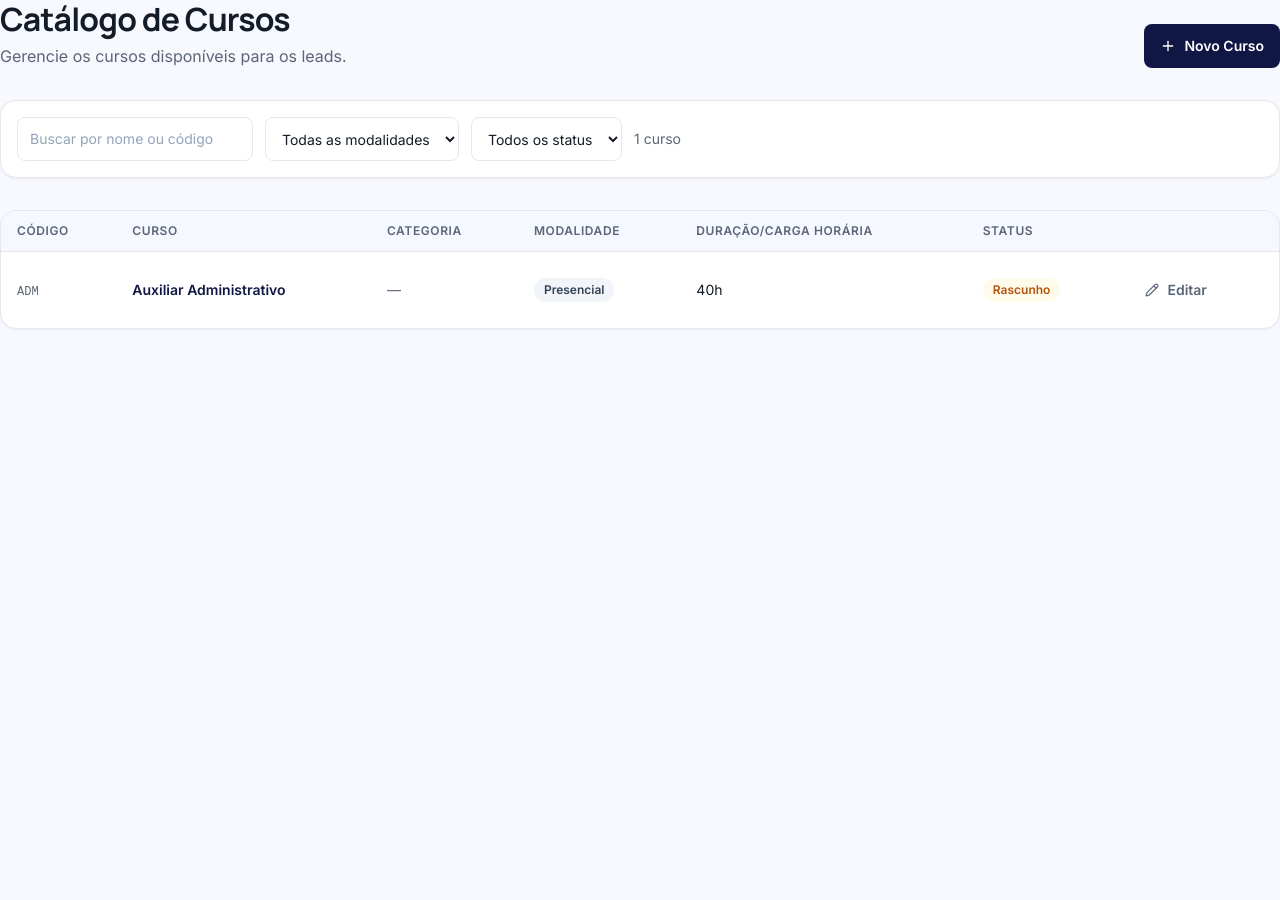
Test: CourseCatalog › mostra mensagem de erro de permissão para 42501
Click the button "Novo Curso" at {"x": 1212, "y": 46}, box x1=1144 y1=24 x2=1279 y2=68
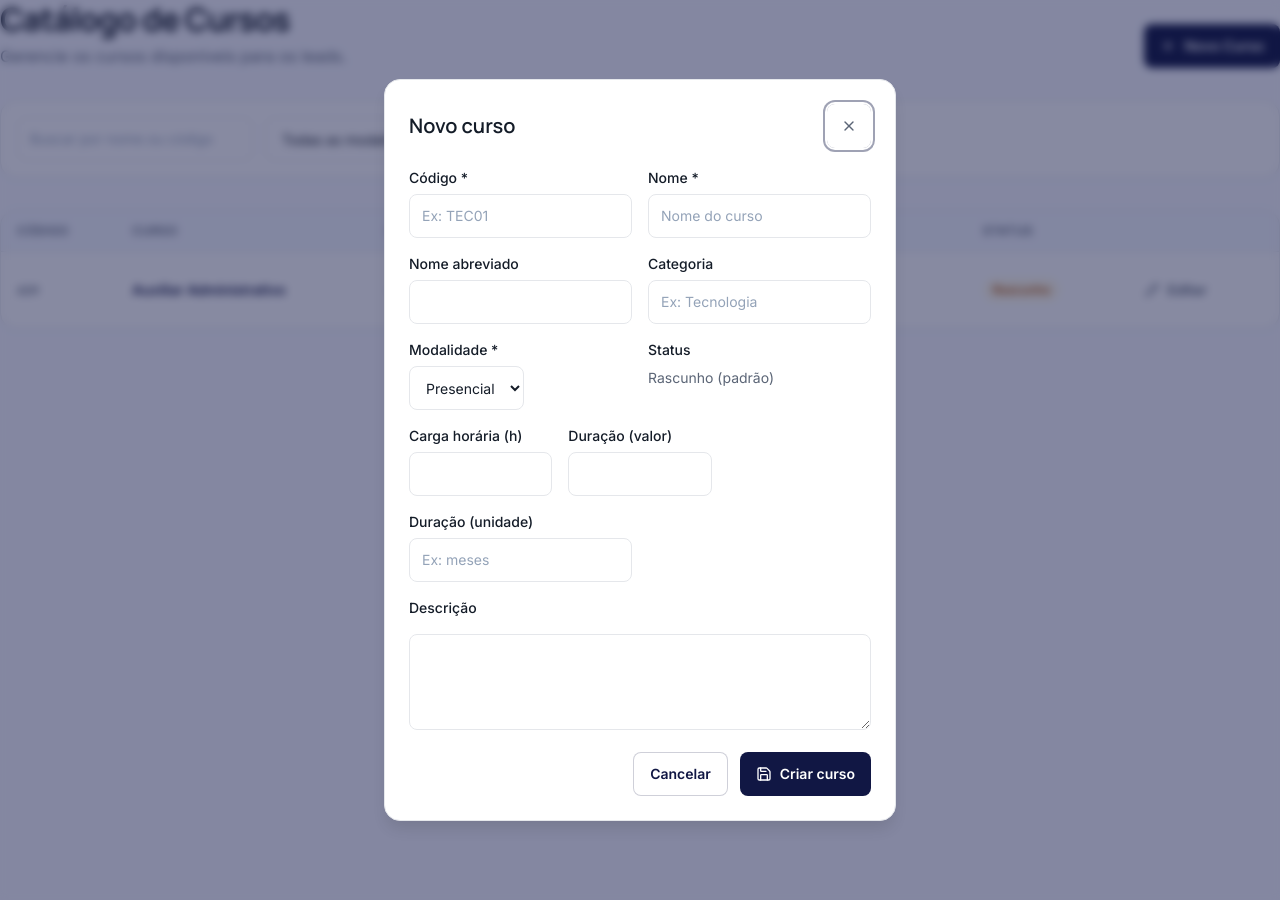
Type "ADM-TESTE" into the field labelled "Código *" at {"x": 520, "y": 216}, box x1=409 y1=194 x2=632 y2=238
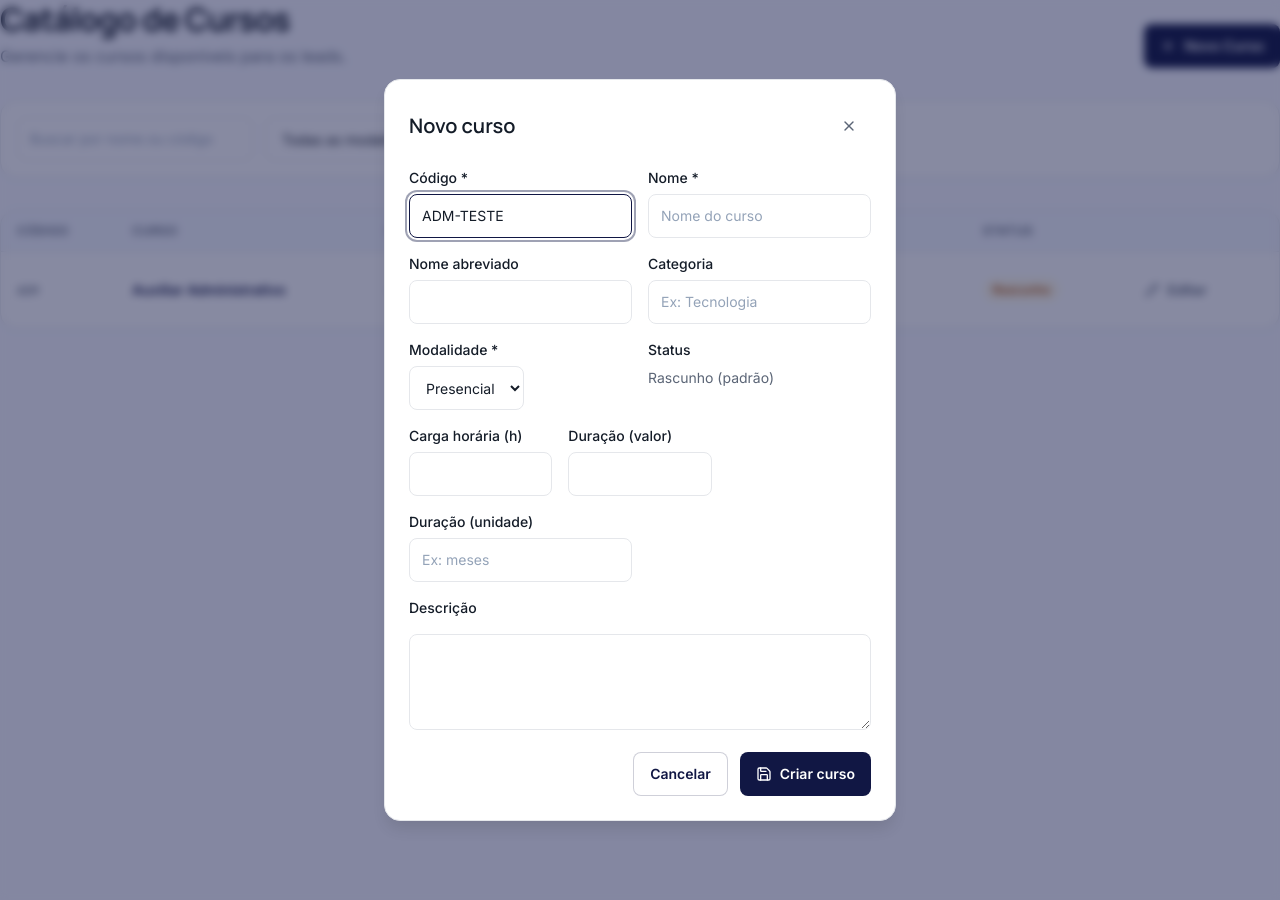
Type "Curso Teste" into the field labelled "Nome *" at {"x": 760, "y": 216}, box x1=648 y1=194 x2=871 y2=238
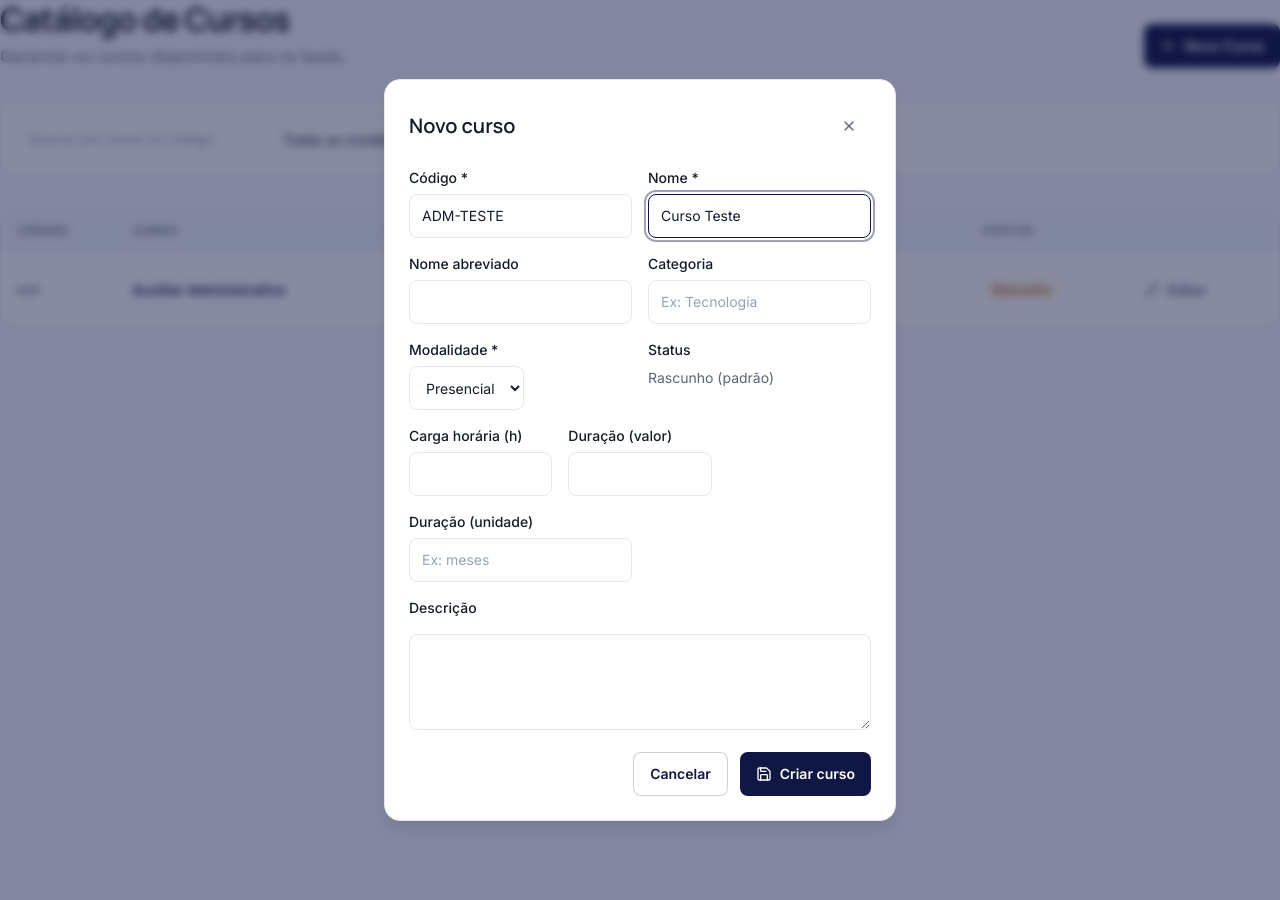
Click the button "Criar curso" at {"x": 805, "y": 774}, box x1=740 y1=752 x2=871 y2=796
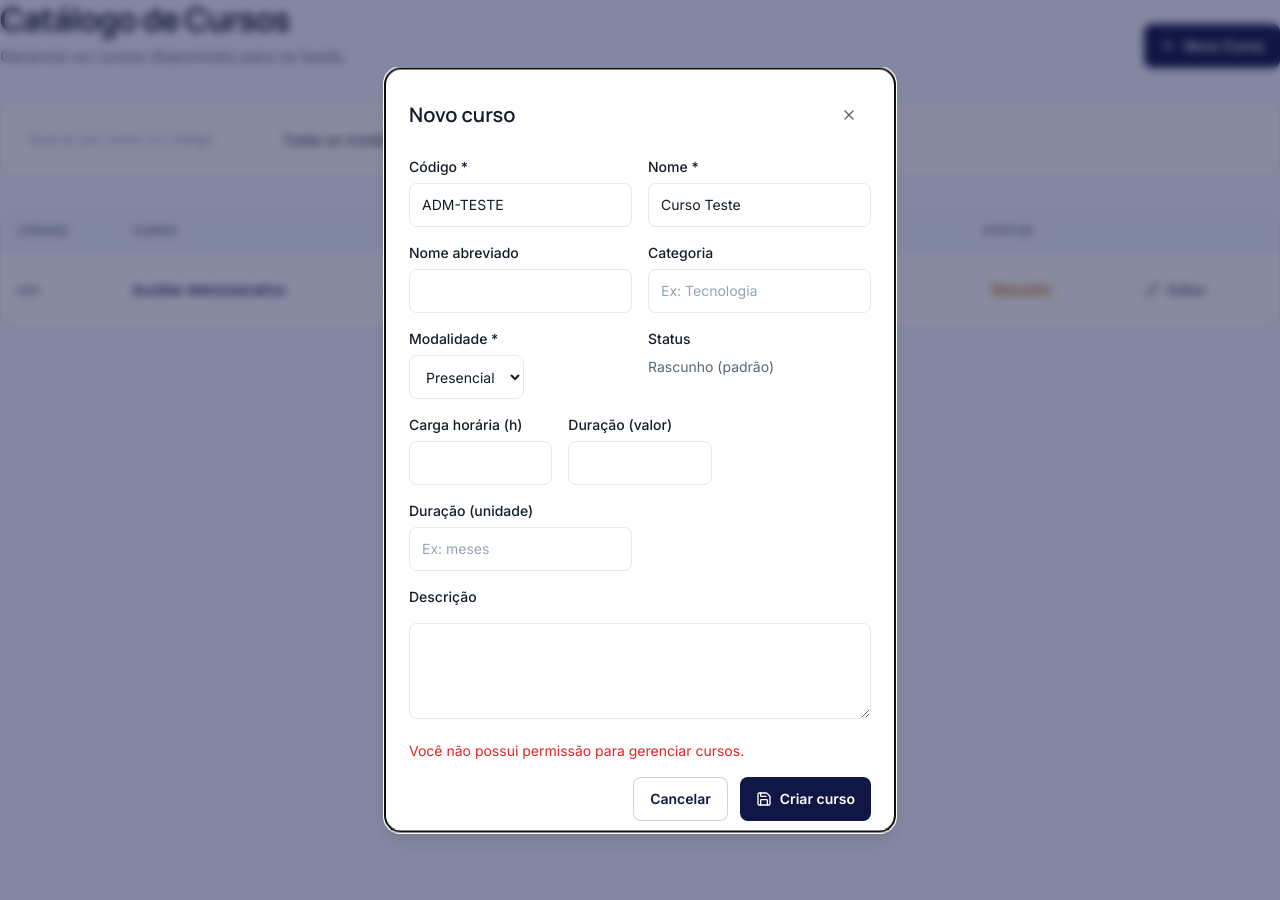
Now the text "Você não possui permissão para gerenciar cursos." is shown, box x1=409 y1=742 x2=744 y2=758
